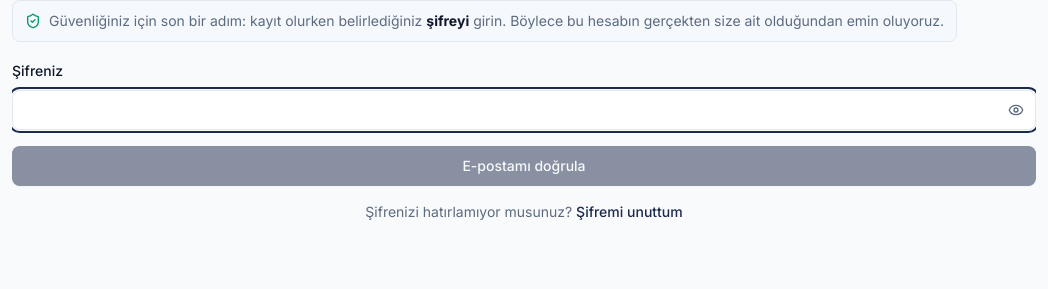
it: F5 — e-posta doğrulama: geçerli bağlantıda hiçbir işlem yapılmadan hata gösterilmez › KONTROL — sunucu 'password' derse 'Şifre hatalı' görünür
Type "sifre12345" into the password field labelled "Şifreniz" at point(524, 110), box [12,90,1036,130]
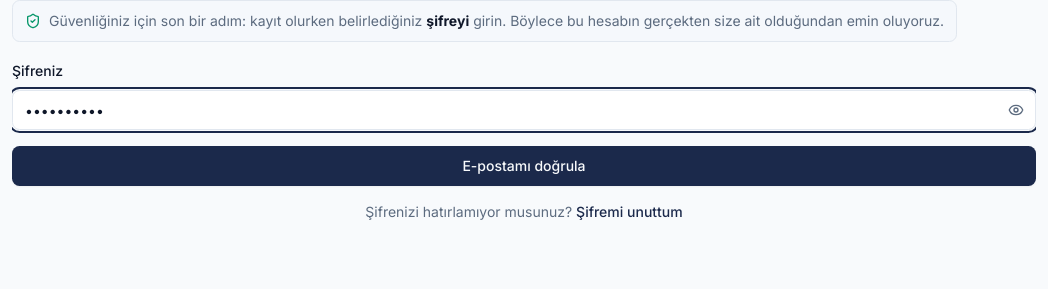
Submit the form named "Şifreniz"
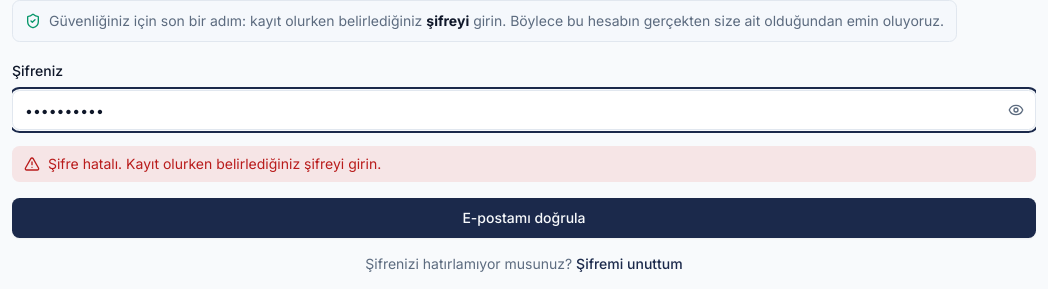
Expected: the text "Şifre hatalı. Kayıt olurken belirlediğiniz şifreyi girin." is shown, [48,154,381,174]
